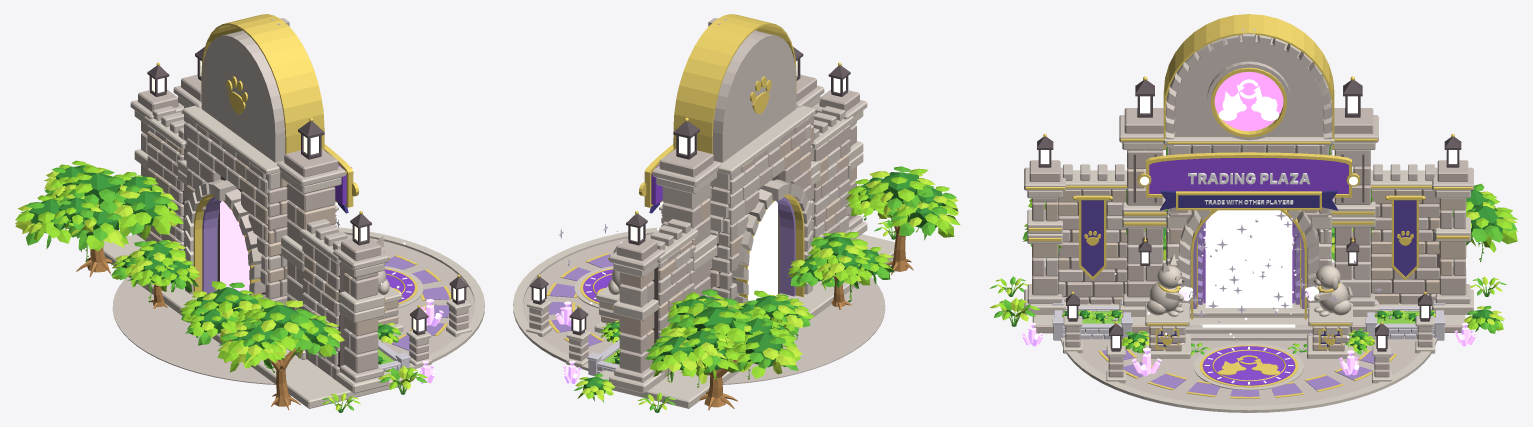
Rendered from TowerOfPets_TradingPortal.fbx.
3 views of the same model, side by side, from view 1: azimuth 30°, elevation 25°; view 2: azimuth 150°, elevation 25°; view 3: azimuth 270°, elevation 25° (orthographic).
Parts seen in each view (by area): view 1: TradingPortal_Platform__Castle_Stone_Light, TradingPortal_Crest__Castle_Stone_Light, TradingPortal_Pillars__Castle_Stone, TradingPortal_Crest__Gold, TradingPortal_Platform__Castle_Trim, TradingPortal_Land_Tree_Large_High_9__Leaves_Light, TradingPortal_Pillars__Castle_Trim, TradingPortal_Central_Block__Castle_Stone, TradingPortal_SideWalls__Castle_Stone, TradingPortal_Pillars__Castle_Stone_Light, TradingPortal_Land_Tree_Large_High_9__Leaves_Dark, TradingPortal_Roof__Castle_Trim (+33 smaller); view 2: TradingPortal_Platform__Castle_Stone_Light, TradingPortal_Crest__Castle_Stone_Light, TradingPortal_Crest__Gold, TradingPortal_Pillars__Castle_Stone, TradingPortal_Land_Tree_Large_High_9__Leaves_Light, TradingPortal_Pillars__Castle_Stone_Light, TradingPortal_Pillars__Castle_Trim, TradingPortal_Central_Block__Castle_Stone_Light, TradingPortal_Platform__Castle_Trim, TradingPortal_SideWalls__Castle_Stone, TradingPortal_Central_Block__Castle_Stone, TradingPortal_Roof__Castle_Trim (+33 smaller); view 3: TradingPortal_Crest__Castle_Stone_Light, TradingPortal_Pillars__Castle_Stone, TradingPortal_Platform__Castle_Stone_Light, TradingPortal_TeleportTrigger__Trade_Ring_Glow, TradingPortal_Sign__Trade_Purple, TradingPortal_SideWalls__Castle_Stone, TradingPortal_Pillars__Castle_Trim, TradingPortal_Pillars__Castle_Stone_Light, TradingPortal_Crest__Gold, TradingPortal_SideWalls__Castle_Stone_Warm, TradingPortal_Floor_Bands__Castle_Trim, TradingPortal_Roof__Castle_Trim (+41 smaller).
Part boxes in pixels (x1,y1,x2,y2): TradingPortal_Platform__Castle_Stone_Light: (112,234,474,384); TradingPortal_Crest__Castle_Stone_Light: (201,18,323,162); TradingPortal_Pillars__Castle_Stone: (138,74,381,373); TradingPortal_Crest__Gold: (201,14,324,153); TradingPortal_Platform__Castle_Trim: (103,234,402,408); TradingPortal_Land_Tree_Large_High_9__Leaves_Light: (15,160,183,263); TradingPortal_Pillars__Castle_Trim: (134,96,388,393); TradingPortal_Central_Block__Castle_Stone: (186,133,288,305); TradingPortal_SideWalls__Castle_Stone: (147,130,339,379); TradingPortal_Pillars__Castle_Stone_Light: (130,85,388,382); TradingPortal_Land_Tree_Large_High_9__Leaves_Dark: (29,165,167,236); TradingPortal_Roof__Castle_Trim: (144,105,340,263); TradingPortal_Platform__Castle_Stone_Light: (523,234,885,384); TradingPortal_Crest__Castle_Stone_Light: (673,18,796,162); TradingPortal_Crest__Gold: (673,14,796,153); TradingPortal_Pillars__Castle_Stone: (616,74,859,373); TradingPortal_Land_Tree_Large_High_9__Leaves_Light: (647,292,800,387); TradingPortal_Pillars__Castle_Stone_Light: (609,85,867,382); TradingPortal_Pillars__Castle_Trim: (609,96,867,393); TradingPortal_Central_Block__Castle_Stone_Light: (709,117,810,299); TradingPortal_Platform__Castle_Trim: (599,234,894,408); TradingPortal_SideWalls__Castle_Stone: (658,125,850,338); TradingPortal_Central_Block__Castle_Stone: (709,118,811,299); TradingPortal_Roof__Castle_Trim: (657,105,853,263); TradingPortal_Crest__Castle_Stone_Light: (1165,29,1332,147); TradingPortal_Pillars__Castle_Stone: (1029,108,1468,297); TradingPortal_Platform__Castle_Stone_Light: (1079,262,1419,405); TradingPortal_TeleportTrigger__Trade_Ring_Glow: (1205,210,1292,307); TradingPortal_Sign__Trade_Purple: (1149,158,1348,193); TradingPortal_SideWalls__Castle_Stone: (1058,189,1440,304); TradingPortal_Pillars__Castle_Trim: (1024,142,1473,316); TradingPortal_Pillars__Castle_Stone_Light: (1024,115,1473,306); TradingPortal_Crest__Gold: (1163,14,1334,149); TradingPortal_SideWalls__Castle_Stone_Warm: (1058,189,1439,304); TradingPortal_Floor_Bands__Castle_Trim: (1060,337,1437,412); TradingPortal_Roof__Castle_Trim: (1066,117,1431,189).
Bounding box in the file's own units: 6590 × 5273 × 8568.
